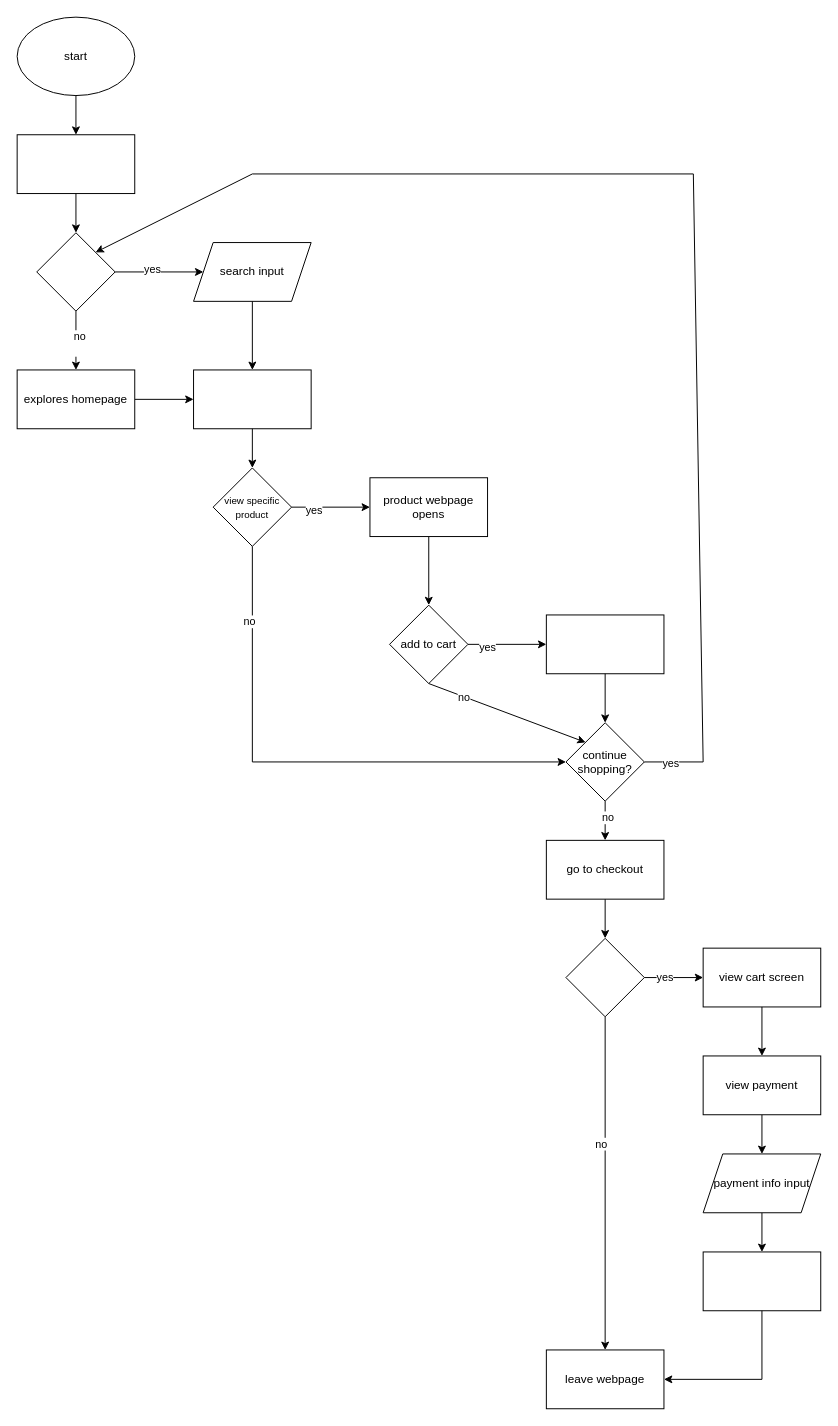
This 838x1426 diagram has some shape labels left out. Here are the shapes that lost their labels. From the top down, the centre of each, then its label:
point 75,164: user enters website
point 75,271: search for product
point 252,399: user views product
point 604,644: add to cart confirmation
point 604,977: want to checkout?
point 761,1281: email and order confirmation
